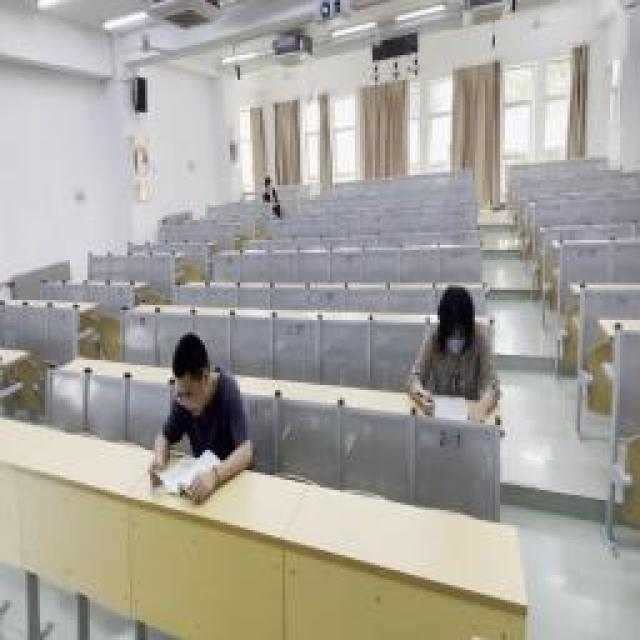study: (150, 335, 248, 503), (410, 290, 508, 412), (262, 175, 278, 200)
